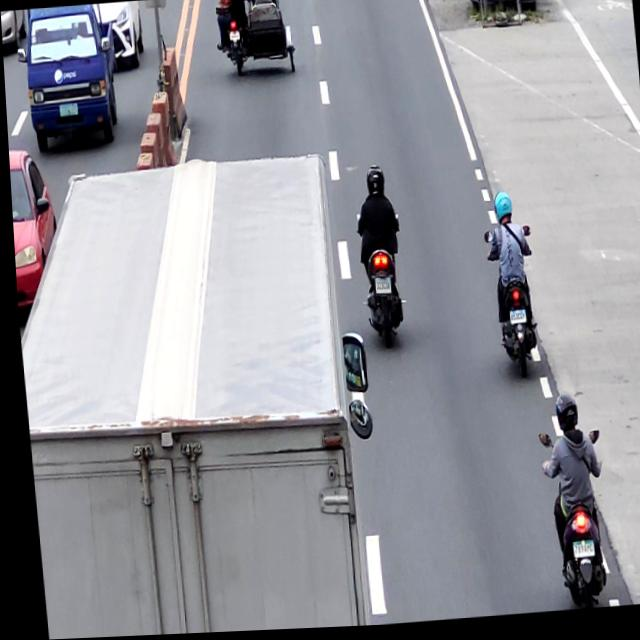License-Plate: (566, 544, 588, 562), (370, 278, 388, 298), (503, 312, 522, 330), (227, 32, 239, 42)
Motorcycle: (533, 428, 609, 616), (478, 226, 540, 385), (352, 212, 406, 351)
Tricycle: (215, 0, 298, 85)
Truck: (7, 144, 385, 640)
